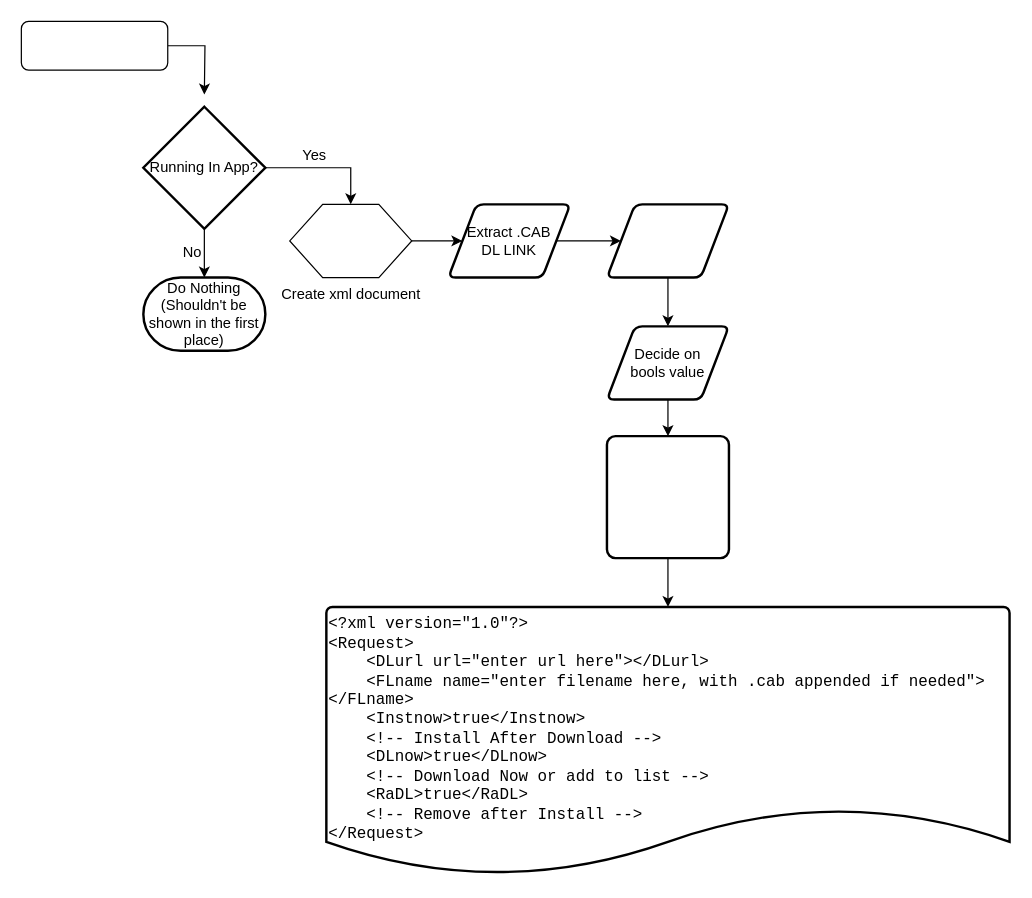
Some shapes in this 1032 by 898 pixel diagram are drawn without their labels. The shapes that lost their labels are listed below. From the top down, each one's box as (x1, y1, x2, y2) in pixels, then its label:
(20, 20, 168, 70): User Clicks Install/download
(605, 203, 730, 278): Extract application name and append .cab
(605, 434, 730, 559): Format XML document with request data
